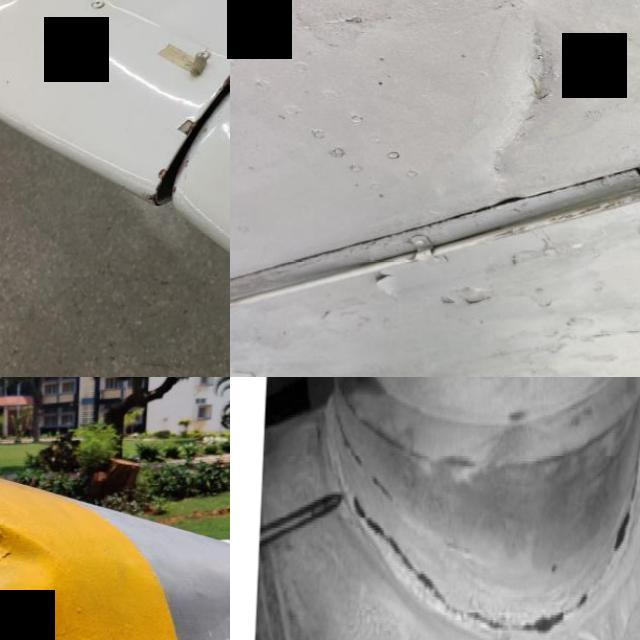Crack: (349, 444, 640, 640), (333, 386, 397, 502), (147, 96, 211, 204)
Dent: (452, 0, 595, 192), (0, 497, 82, 625)
